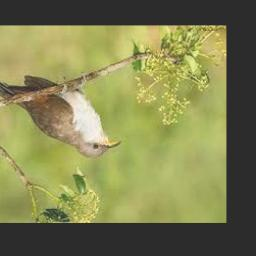Cuckoo: (0, 76, 121, 159)
